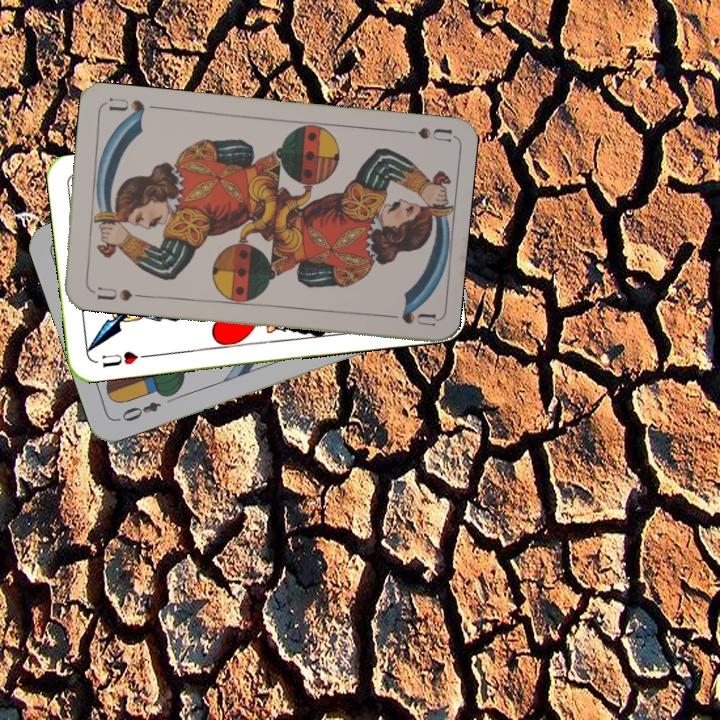EO: (113, 397, 164, 425)
HU: (98, 347, 151, 370)
SU: (393, 123, 452, 144), (93, 283, 135, 304)
